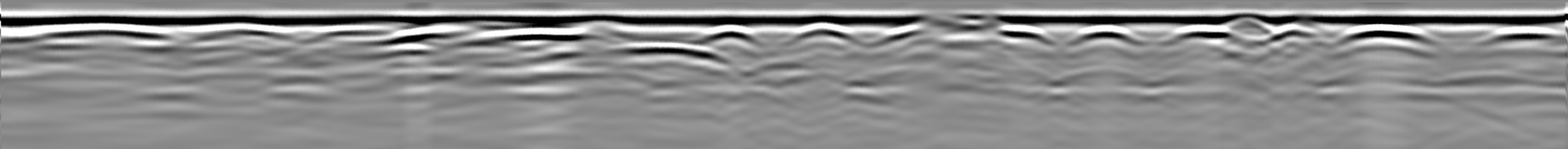pipe: (1217, 14, 1326, 37), (905, 12, 1006, 33)
steel: (26, 25, 179, 45), (472, 27, 601, 47), (312, 25, 435, 45), (1470, 25, 1568, 48), (1332, 24, 1439, 45), (181, 26, 297, 44), (1062, 24, 1144, 47), (690, 23, 768, 47), (1164, 26, 1246, 46), (787, 27, 865, 48), (991, 24, 1056, 45)
